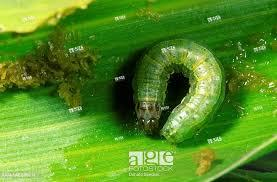fallarmy_worm: (124, 37, 230, 147)
